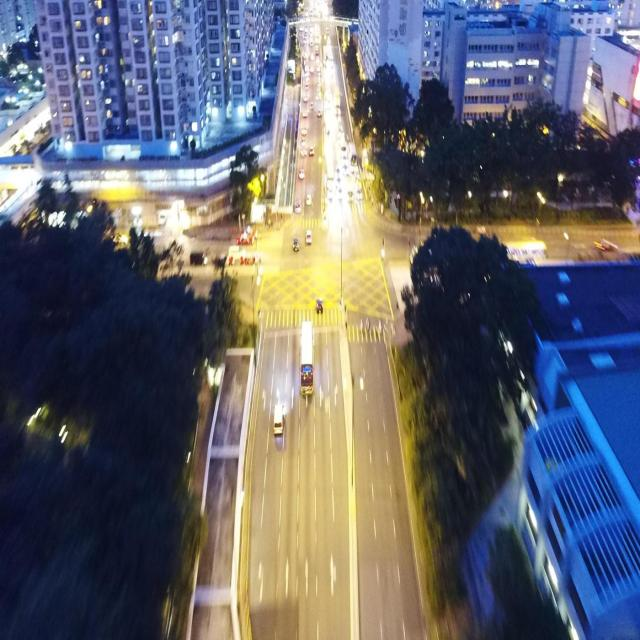car: (272, 404, 284, 435), (316, 298, 323, 314)
tree: (396, 222, 544, 636), (228, 141, 259, 230)
